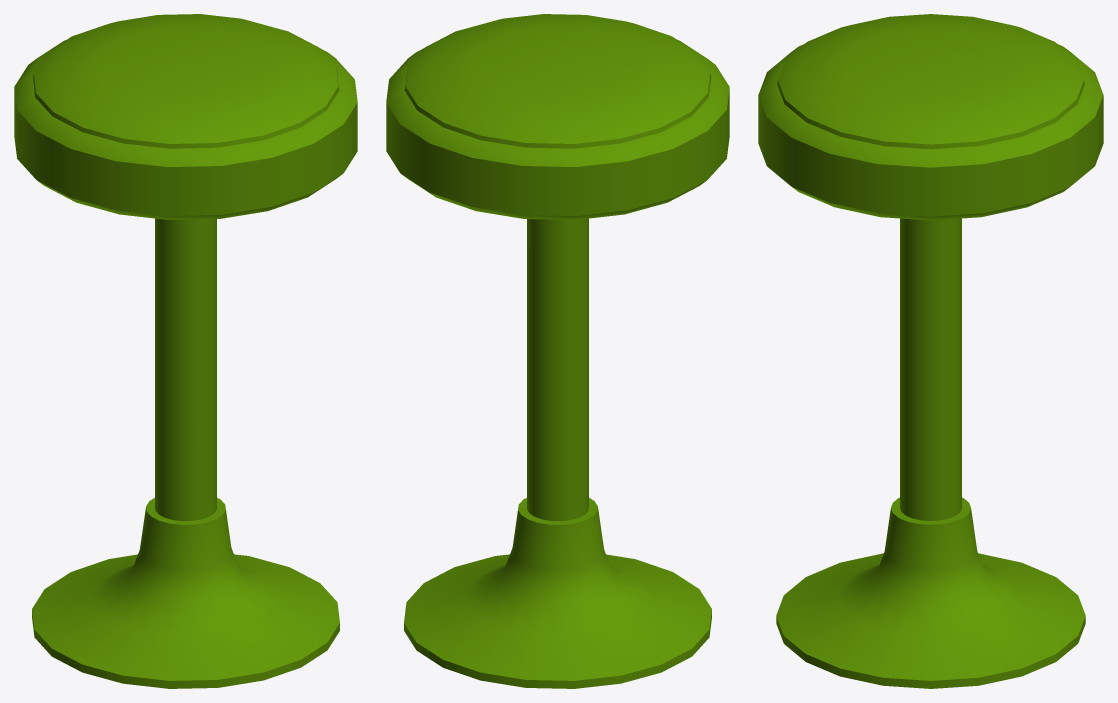
File: SiegeBar.FBX
3 views of the same model, side by side, from view 1: azimuth 30°, elevation 25°; view 2: azimuth 150°, elevation 25°; view 3: azimuth 270°, elevation 25° (orthographic).
Visible parts, largest first — view 1: tabouret; view 2: tabouret; view 3: tabouret.
Boxes of the visible parts, x1=… form: tabouret: x1=14, y1=14, x2=357, y2=688; tabouret: x1=386, y1=14, x2=729, y2=688; tabouret: x1=758, y1=14, x2=1103, y2=688.
Size of the model in its own units: 0.4996 by 0.4996 by 0.8988.
